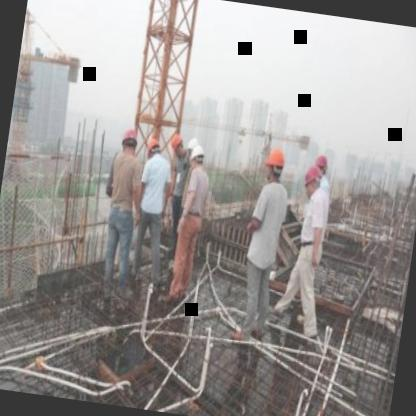helmet: (261, 145, 288, 187), (142, 135, 166, 170), (302, 164, 324, 202), (118, 124, 140, 162), (186, 144, 208, 176), (166, 132, 188, 160), (181, 132, 199, 165), (314, 148, 332, 180)
